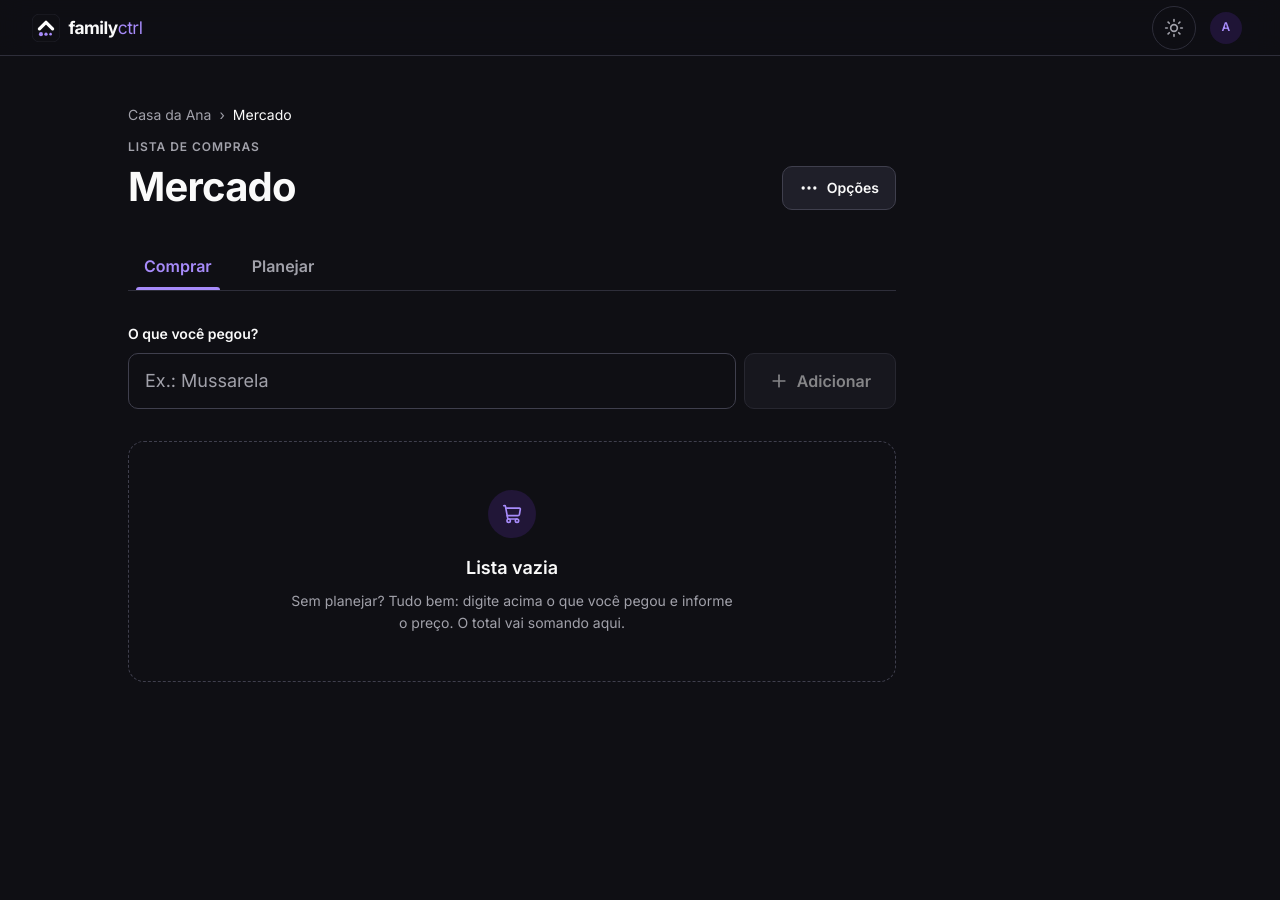
Test: comprar › sem planejar, "O que você pegou?" adiciona o item com quantidade e preço
Check: the text "Lista vazia" is shown, box left=466, top=554, right=558, bottom=582
Type "Chocolate" into the field labelled "O que você pegou?" at point(432, 381), box left=128, top=353, right=736, bottom=409
Then press Enter
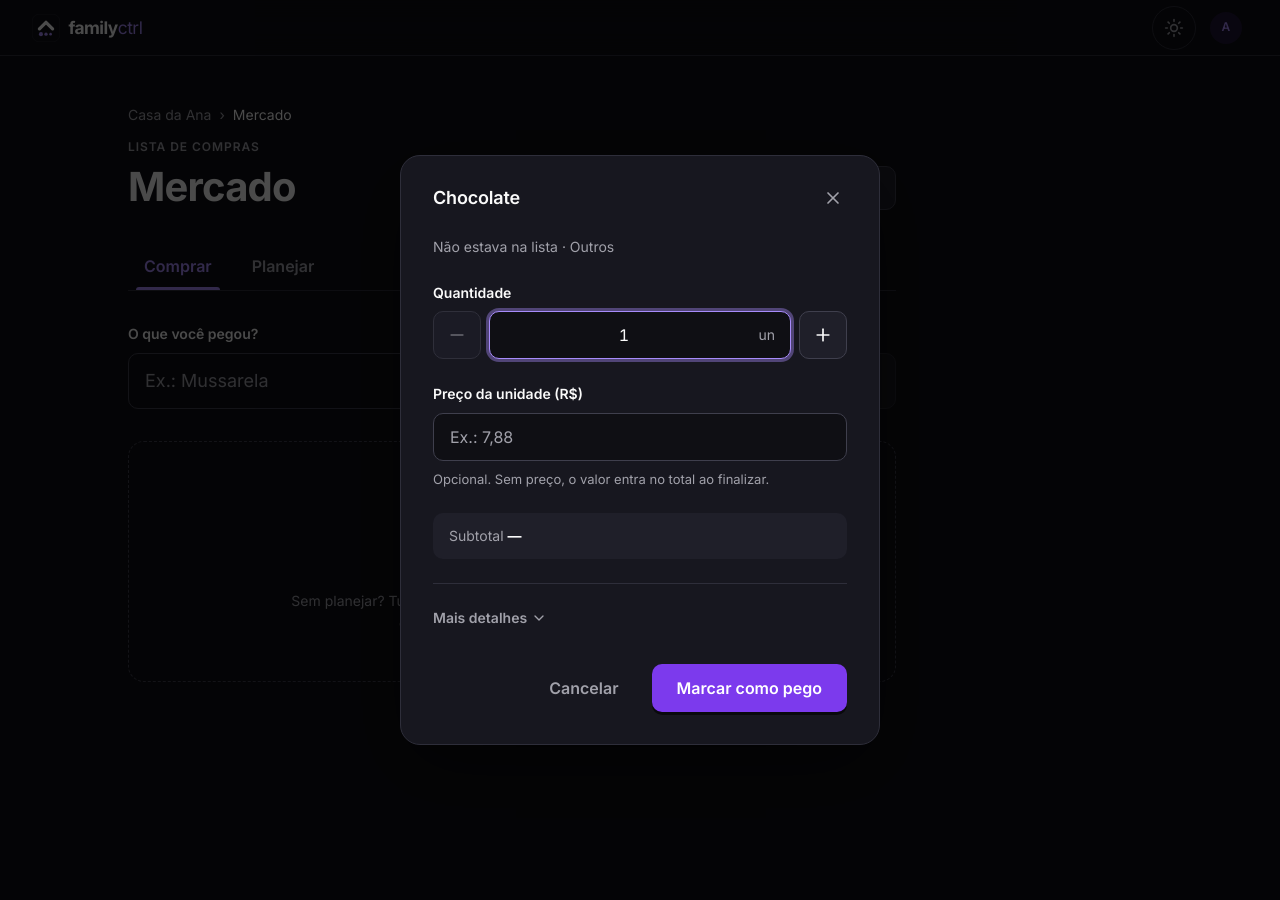
Check: the field labelled "Quantidade" holds "1", box left=489, top=311, right=791, bottom=359
Click the button named "Aumentar quantidade" at point(823, 335), box left=799, top=311, right=847, bottom=359
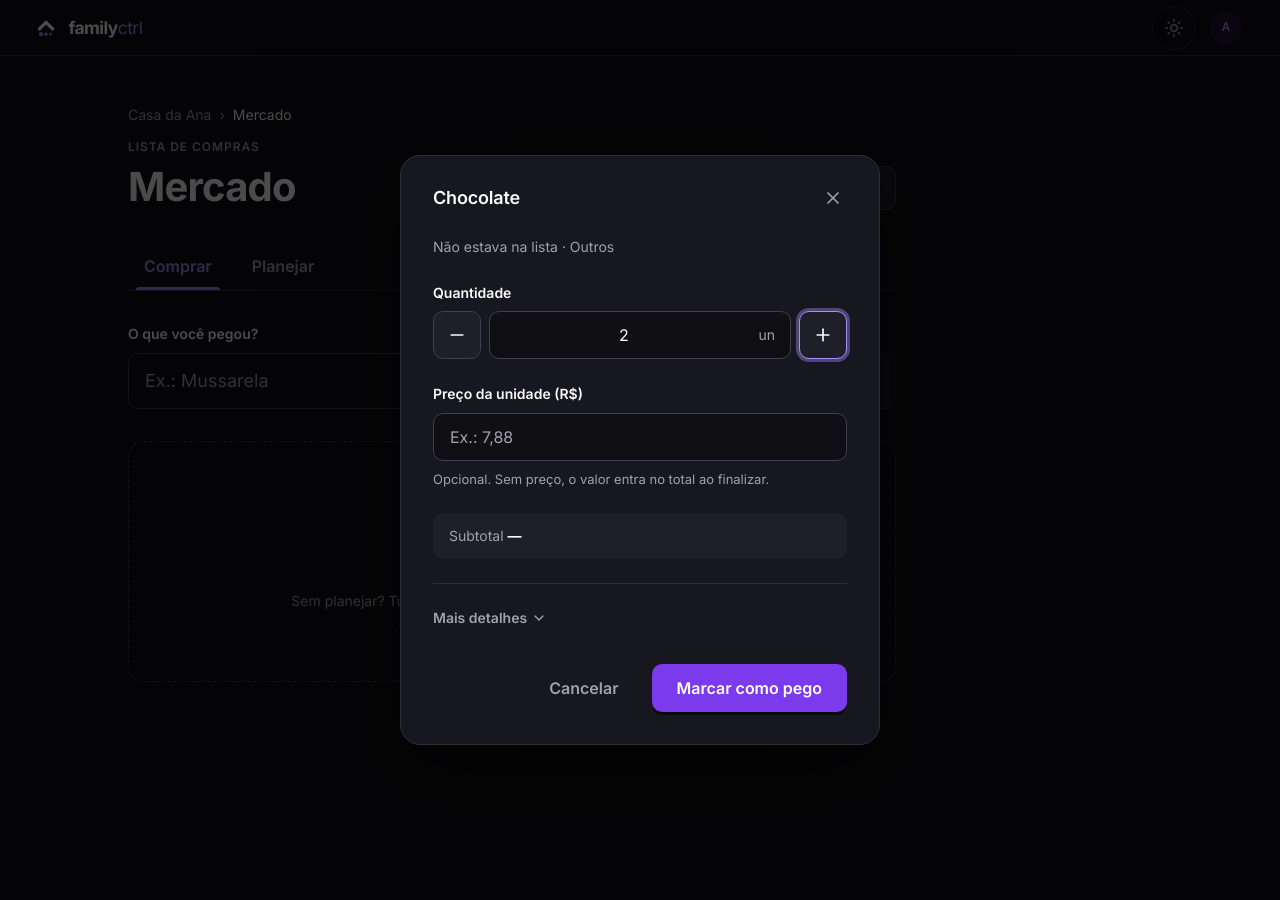
Type "5,50" into the field labelled "Preço da unidade (R$)" at point(640, 437), box left=433, top=413, right=847, bottom=461
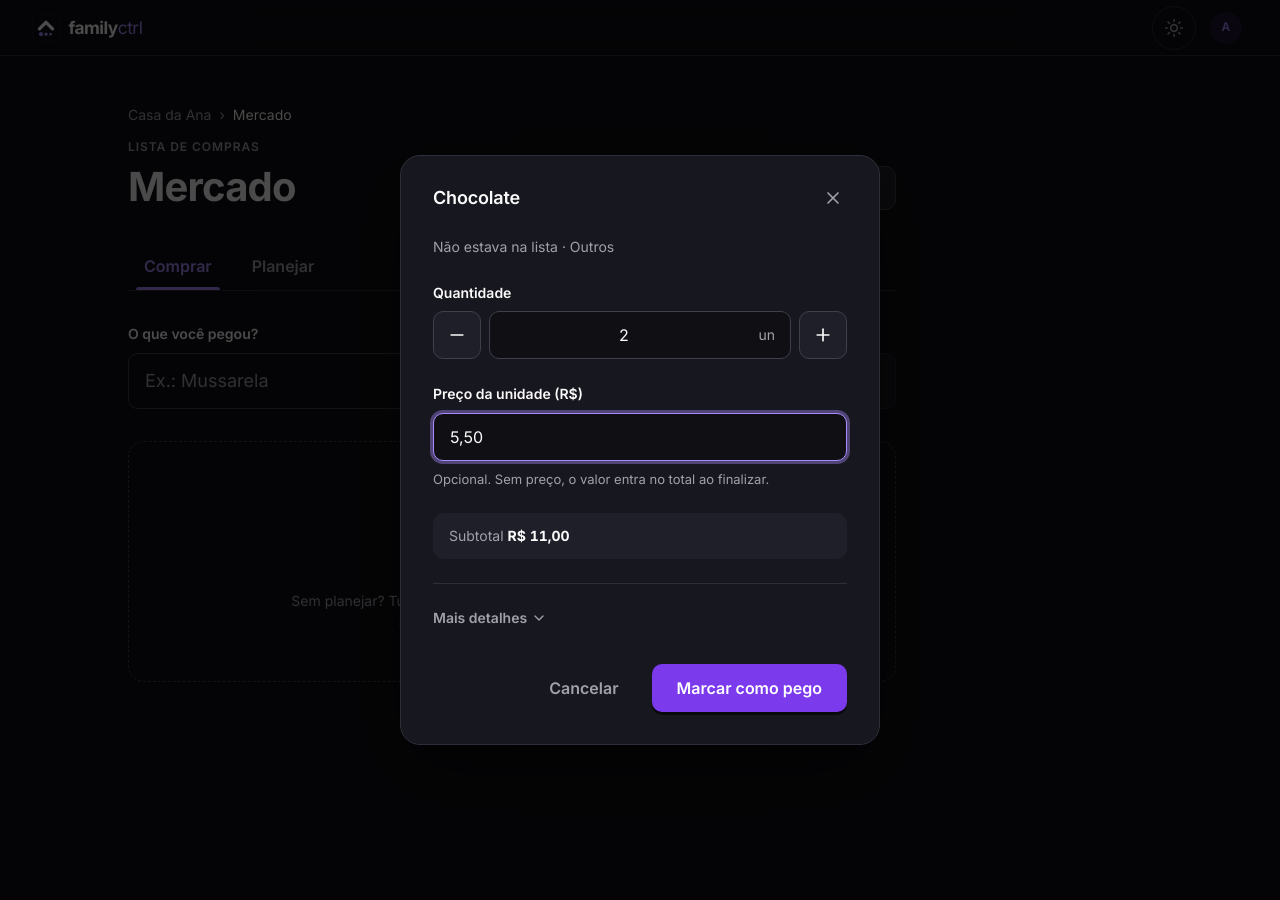
Check: the text "R$ 11,00" is shown, box left=508, top=527, right=570, bottom=544
Click the button "Marcar como pego" at point(749, 688), box left=652, top=664, right=847, bottom=712
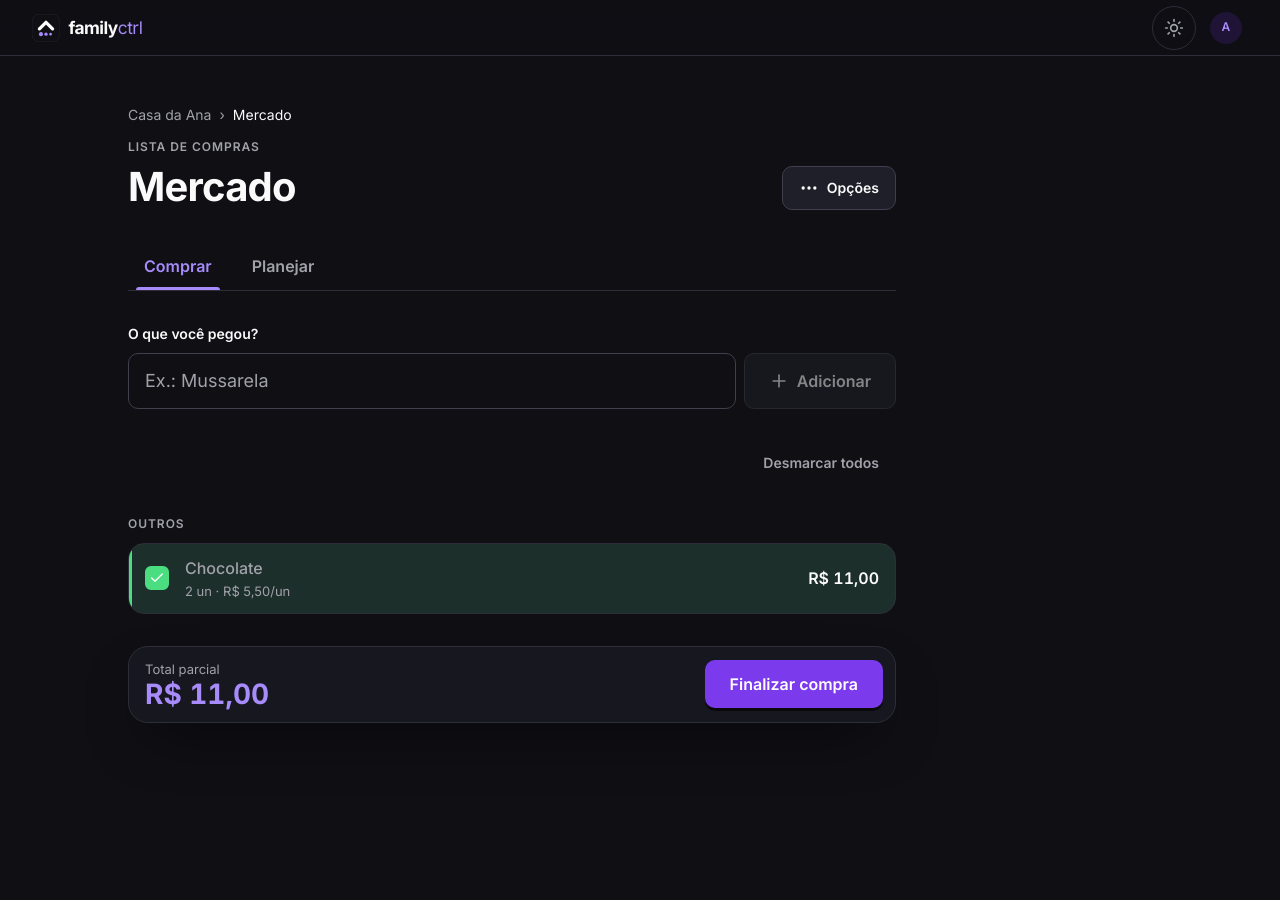
Check: the checkbox named "Desmarcar Chocolate" is shown, box left=129, top=544, right=185, bottom=613
Check: the text "R$ 11,00" below "Total parcial" is shown, box left=145, top=677, right=269, bottom=711
